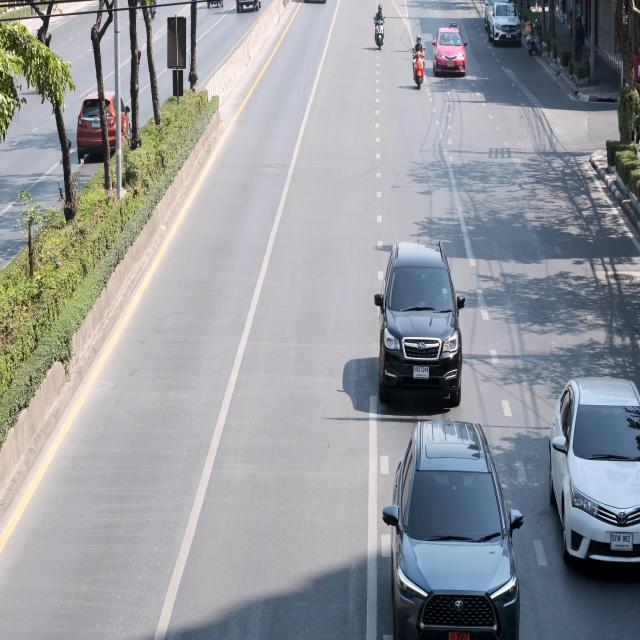cars: (387, 418, 525, 640), (544, 364, 640, 569), (376, 236, 470, 410), (76, 84, 134, 169), (431, 22, 472, 81), (488, 0, 524, 56), (483, 0, 510, 38)
motorcycle: (411, 30, 428, 93), (524, 13, 542, 59), (369, 4, 385, 51)
